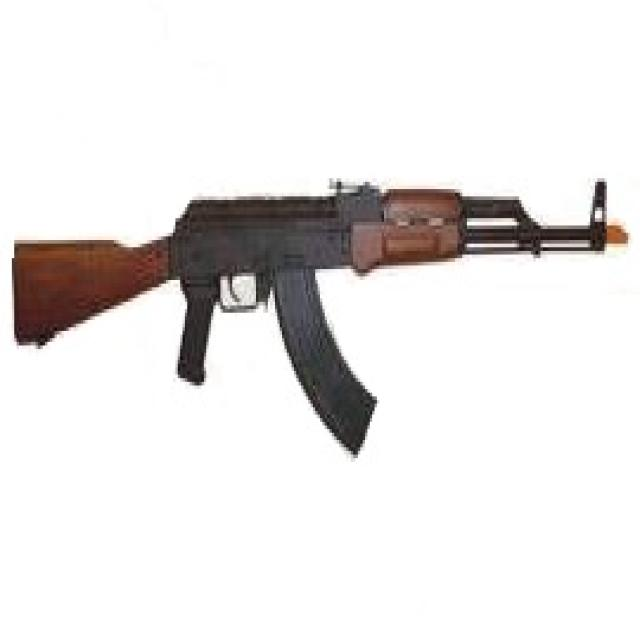Gun: (8, 149, 636, 449)
